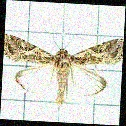Spodoptera litura: (3, 26, 122, 105)
